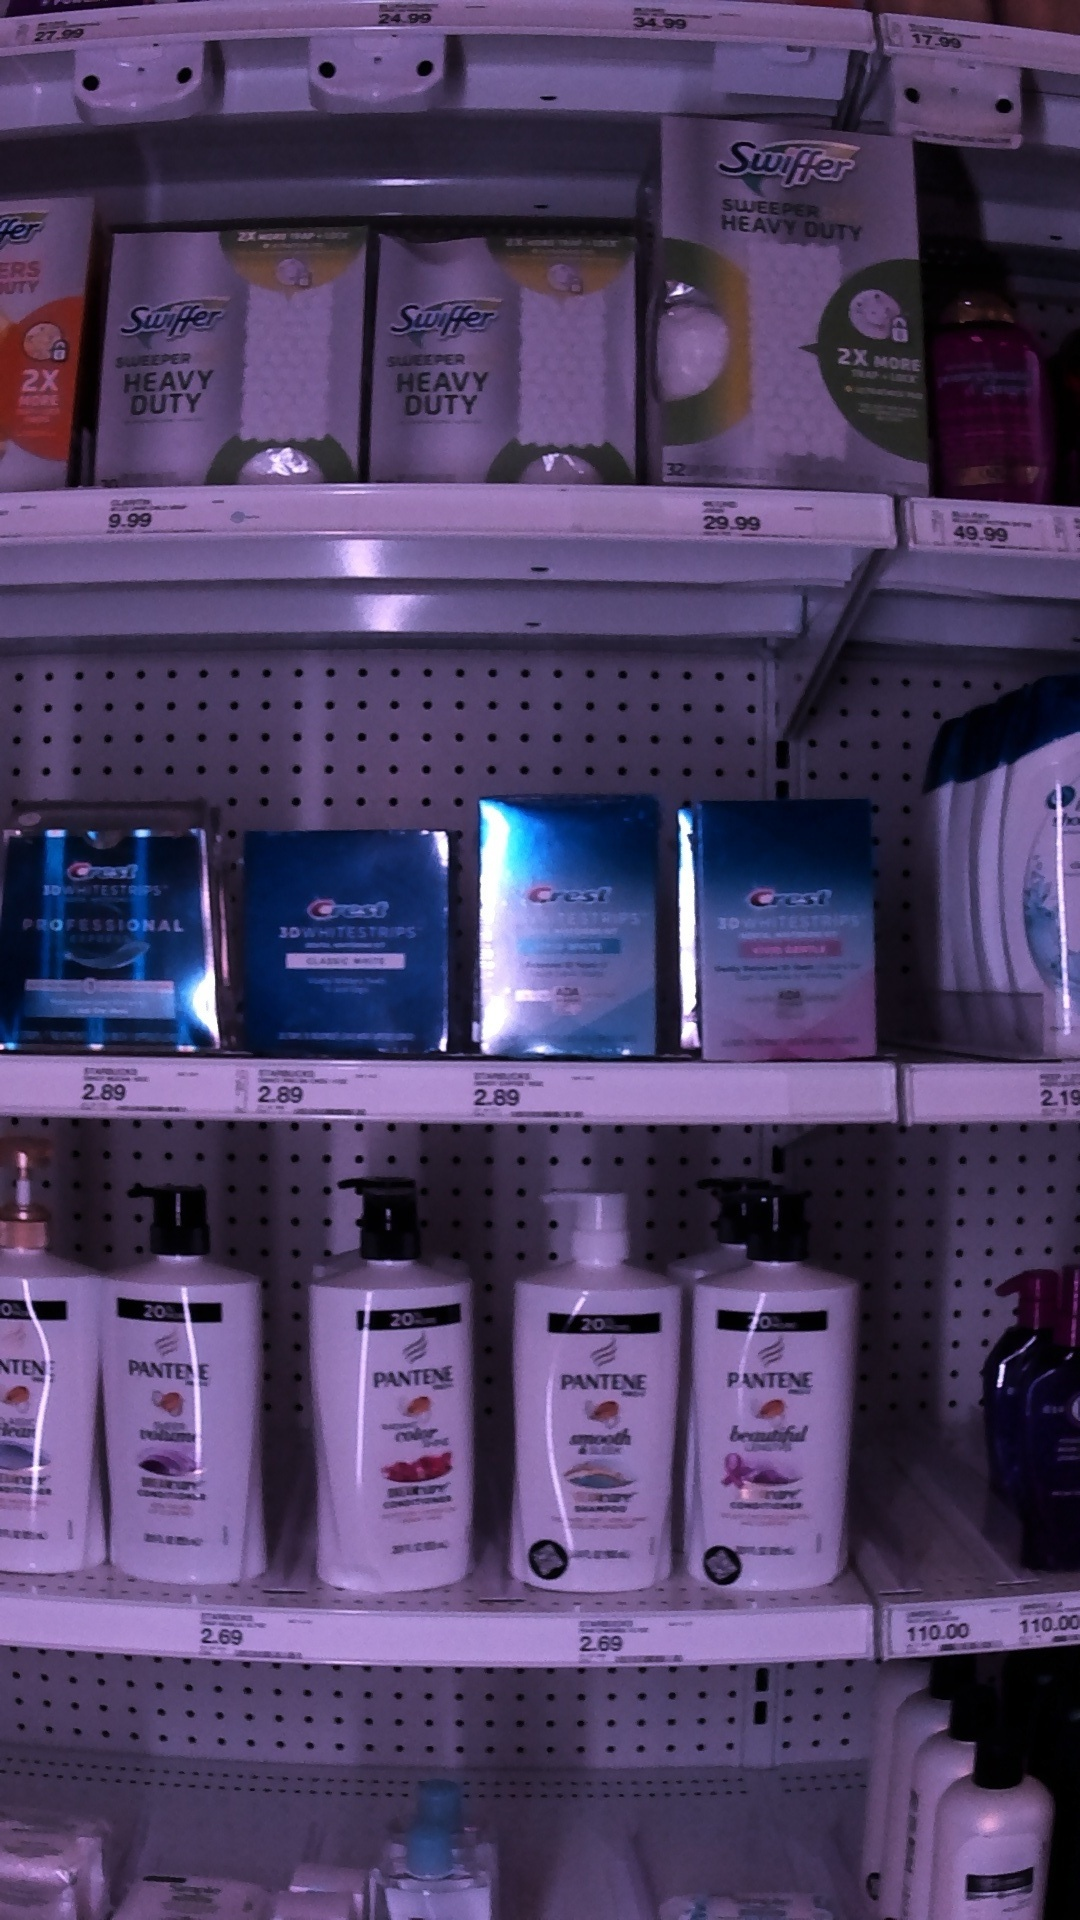ptag: (71, 1051, 247, 1124), (258, 1051, 400, 1129), (460, 1058, 603, 1131), (905, 497, 1060, 562), (873, 1597, 1011, 1669), (191, 1600, 324, 1675), (98, 487, 266, 545), (574, 1613, 729, 1675), (675, 489, 824, 551), (876, 9, 998, 62), (624, 1, 746, 53), (13, 9, 162, 51), (367, 1, 480, 37), (1022, 1593, 1080, 1662)
